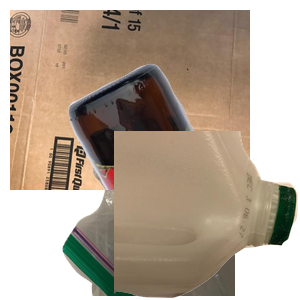cardboard: (10, 10, 250, 190)
glass: (66, 61, 300, 241)
plastic: (114, 131, 300, 300)
trash: (60, 120, 300, 300)
